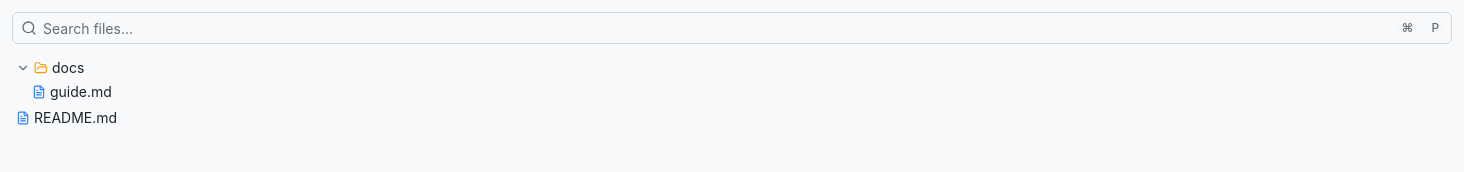
Test case: file-tree › ディレクトリをクリックすると折畳まれる
Step 1. Click the button "docs" → {"x": 68, "y": 68}, box [12,56,1452,80]
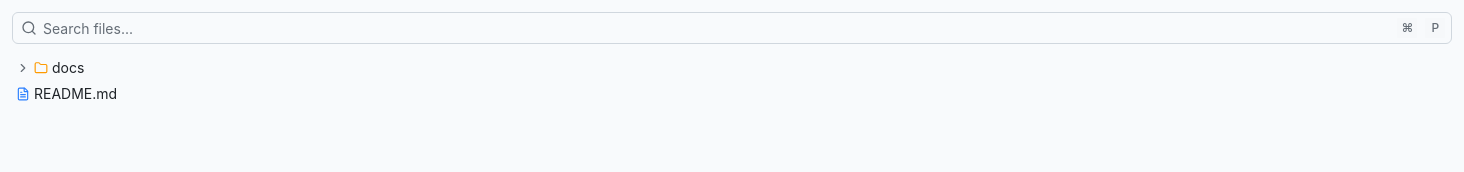
Expected: the button "guide.md" is gone
